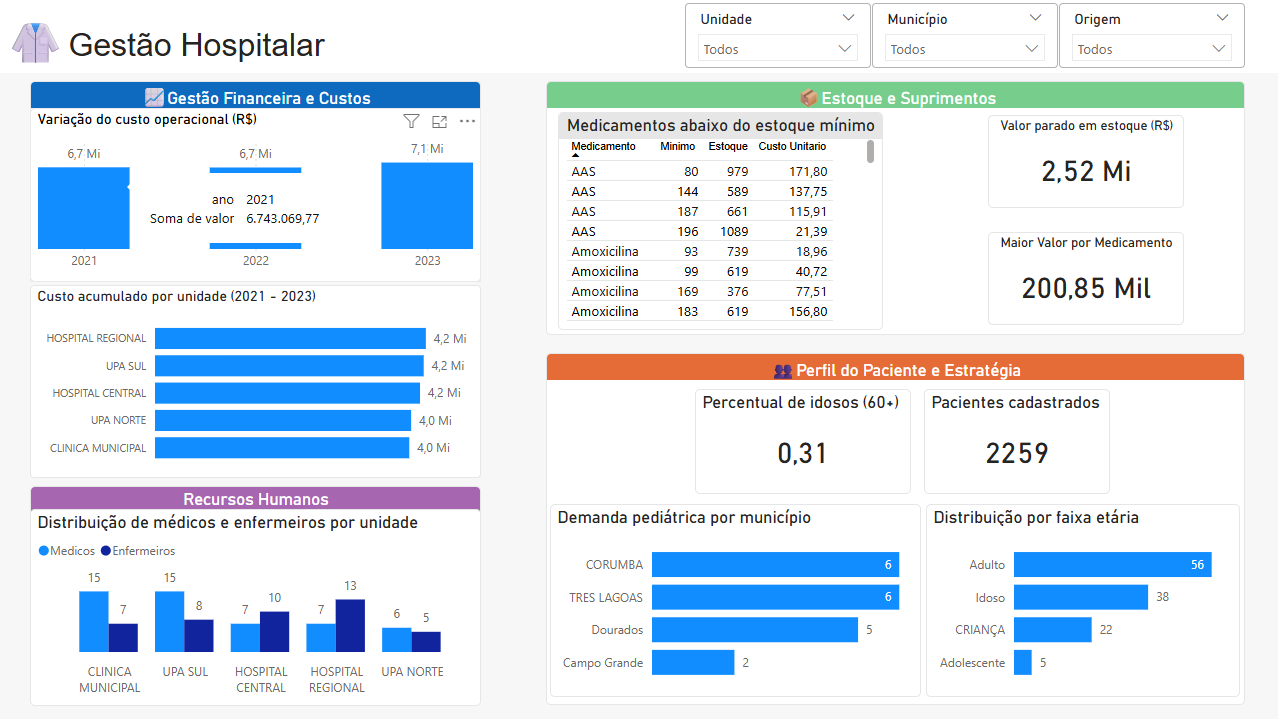

This screenshot's page, from the dashboard's own definition file:
{"tool":"powerbi","page":{"name":"Página 1","canvas":[1280,720],"ordinal":0},"visuals":[{"type":"textbox","title":"Recursos Humanos","box":[32,487,451,216],"z":0},{"type":"textbox","title":"📦Estoque e Suprimentos","box":[548,82,699,254],"z":1000},{"type":"textbox","title":"📈Gestão Financeira e Custos","box":[32,82,451,187],"z":2000},{"type":"textbox","title":"👥Perfil do Paciente e Estratégia","box":[548,354,699,352],"z":3000},{"type":"columnChart","title":"Variação do custo operacional (R$)","fields":{"Category":["saude custos_fixos.ano"],"Y":["Sum(saude custos_fixos.valor)"]},"box":[32,109,451,174],"z":4000},{"type":"clusteredBarChart","title":"Custo acumulado por unidade (2021 - 2023)","fields":{"Category":["saude custos_fixos.unidade"],"Y":["Sum(custos_fixos.valor)"]},"box":[32,286,451,193],"z":5000},{"type":"card","title":"Valor parado em estoque (R$)","fields":{"Values":["Medidas.Valor Parado Estoque"]},"box":[990,116,196,93],"z":6000},{"type":"tableEx","title":"Medicamentos abaixo do estoque mínimo","fields":{"Values":["medicamentos_estoque.nome_medicamento","medicamentos_estoque.estoque_minimo","medicamentos_estoque.quantidade_estoque","medicamentos_estoque.custo_unitario"]},"box":[560,113,325,218],"z":7000},{"type":"clusteredColumnChart","title":"Distribuição de médicos e enfermeiros por unidade","fields":{"Category":["salarios_profissionais.unidade"],"Y":["Medidas.Qtd Medicos","Medidas.Qtd Enfermeiros"]},"box":[32,510,451,197],"z":8000},{"type":"card","title":"Percentual de idosos (60+)","fields":{"Values":["Medidas.Percentual Idosos"]},"box":[697,390,216,105],"z":9000},{"type":"card","title":"Maior Valor por Medicamento","fields":{"Values":["Medidas.Maior Valor por Medicamento"]},"box":[990,233,196,93],"z":10000},{"type":"card","title":"Pacientes cadastrados","fields":{"Values":["CountNonNull(atendimentos.paciente_id)"]},"box":[926,390,186,105],"z":11000},{"type":"barChart","title":"Distribuição por faixa etária","fields":{"Category":["pacientes.faixa_etaria"],"Y":["CountNonNull(pacientes.paciente_id)"]},"box":[928,505,314,193],"z":12000},{"type":"barChart","title":"Demanda pediátrica por município","fields":{"Category":["pacientes.municipio"],"Y":["CountNonNull(pacientes.paciente_id)"]},"box":[552,505,371,193],"z":13000},{"type":"shape","box":[0,0,1280,74],"z":14000},{"type":"slicer","fields":{"Values":["atendimentos.origem"]},"box":[1061,4,186,65],"z":15000},{"type":"slicer","fields":{"Values":["atendimentos.municipio"]},"box":[874,4,186,65],"z":16000},{"type":"slicer","fields":{"Values":["dim_unidade.unidade"]},"box":[687,4,186,65],"z":17000},{"type":"textbox","box":[0,0,428,74],"z":17001}]}

Visuals, with their boxes in screenshot pixels (x1, y1, x2, y2), scaled from the page's 1280x720 canvas onto the 1278x719 screenshot:
"Recursos Humanos" textbox: 32/486/482/702
"📦Estoque e Suprimentos" textbox: 547/82/1245/336
"📈Gestão Financeira e Custos" textbox: 32/82/482/269
"👥Perfil do Paciente e Estratégia" textbox: 547/354/1245/705
"Variação do custo operacional (R$)" columnChart: 32/109/482/283
"Custo acumulado por unidade (2021 - 2023)" clusteredBarChart: 32/286/482/478
"Valor parado em estoque (R$)" card: 988/116/1184/209
"Medicamentos abaixo do estoque mínimo" tableEx: 559/113/884/331
"Distribuição de médicos e enfermeiros por unidade" clusteredColumnChart: 32/509/482/706
"Percentual de idosos (60+)" card: 696/389/912/494
"Maior Valor por Medicamento" card: 988/233/1184/326
"Pacientes cadastrados" card: 925/389/1110/494
"Distribuição por faixa etária" barChart: 927/504/1240/697
"Demanda pediátrica por município" barChart: 551/504/922/697
shape: 0/0/1277/74
slicer - atendimentos.origem: 1059/4/1245/69
slicer - atendimentos.municipio: 873/4/1058/69
slicer - dim_unidade.unidade: 686/4/872/69
textbox: 0/0/427/74
